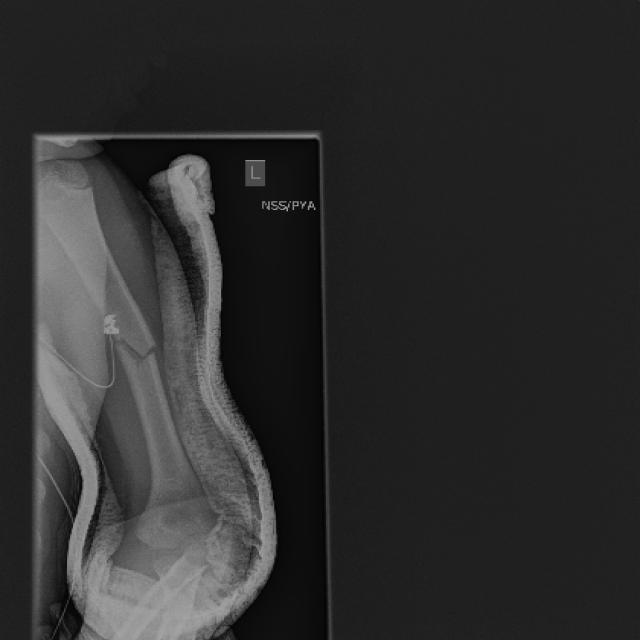humerus fracture: (104, 298, 185, 403)
